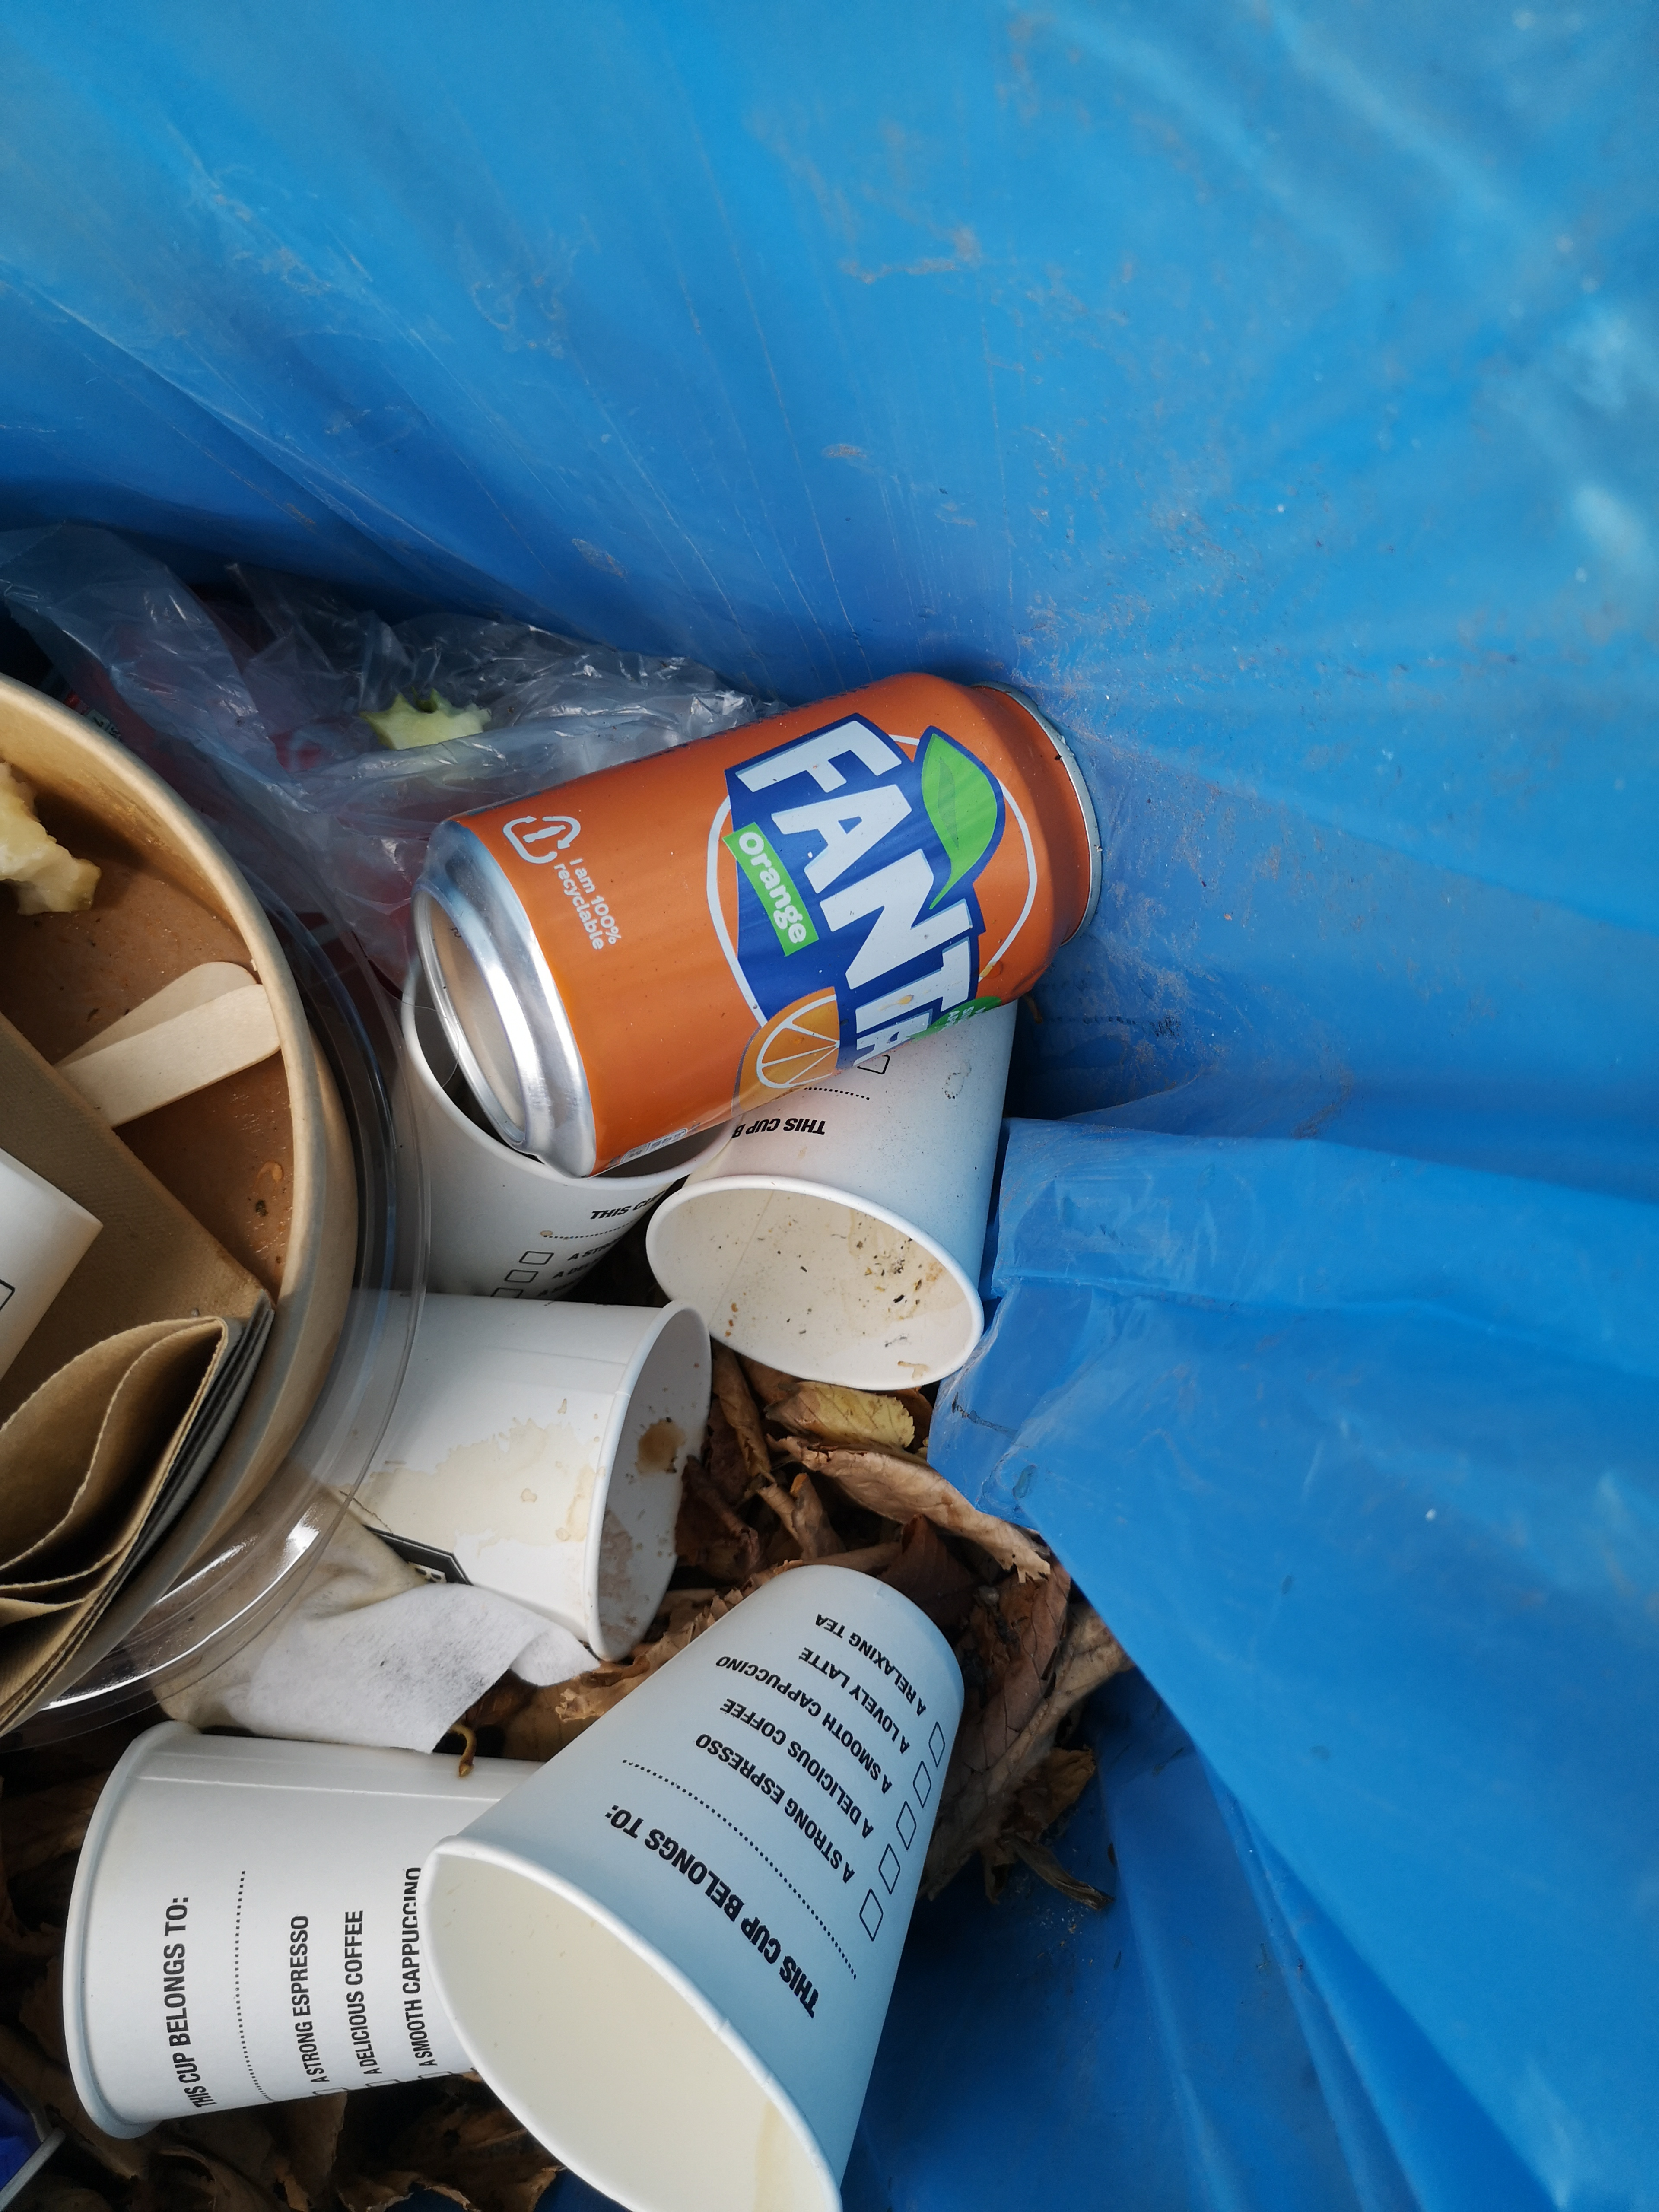can: (373, 657, 1140, 1191)
cup: (416, 1559, 1014, 2212), (42, 1698, 425, 2148), (328, 1264, 716, 1703), (645, 1139, 1033, 1404)
